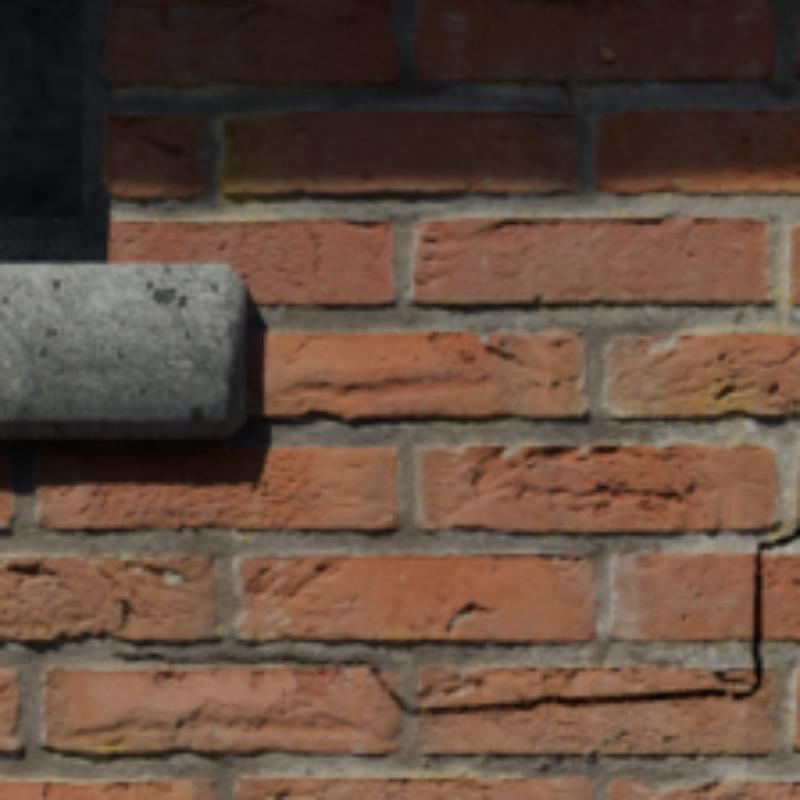pothole: (111, 529, 796, 714)
